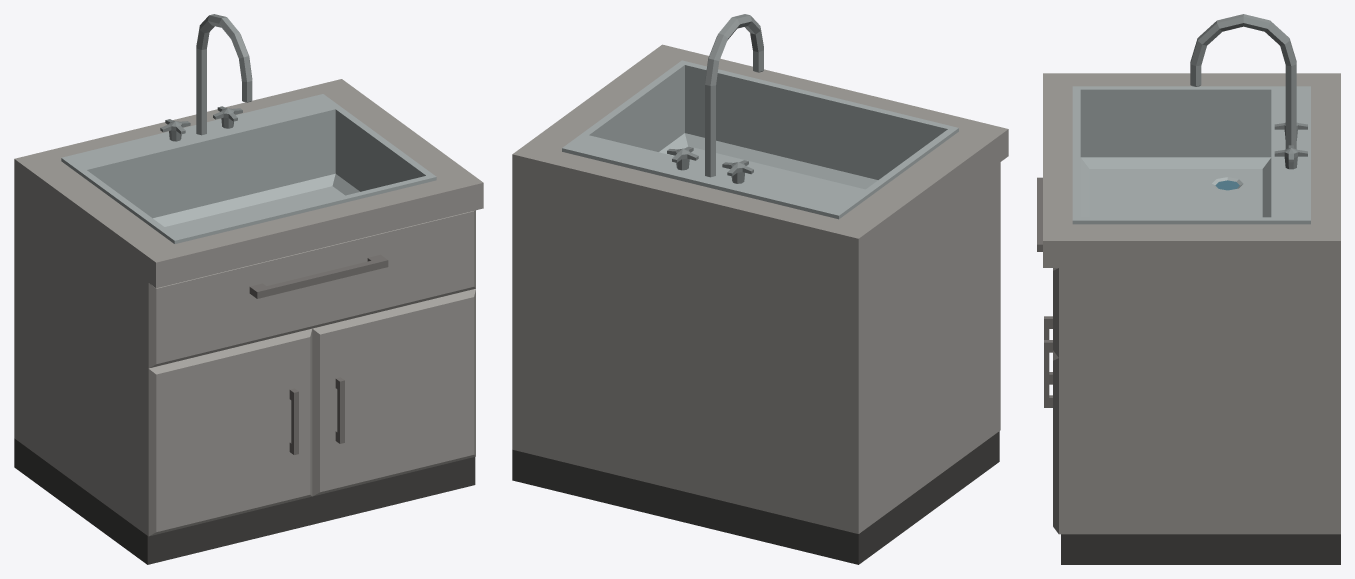
Rendered from SM_Props_Interior_House_Kitchen_Sink.fbx.
3 views of the same model, side by side, from view 1: azimuth 30°, elevation 25°; view 2: azimuth 150°, elevation 25°; view 3: azimuth 270°, elevation 25° (orthographic). The views are drawn at different scales.
Parts seen in each view (by area): view 1: SM_Props_Interior_House_Kitchen_Sink; view 2: SM_Props_Interior_House_Kitchen_Sink; view 3: SM_Props_Interior_House_Kitchen_Sink.
Boxes of the visible parts, left/top/right/bottom form: SM_Props_Interior_House_Kitchen_Sink: left=14, top=14, right=483, bottom=564; SM_Props_Interior_House_Kitchen_Sink: left=512, top=14, right=1008, bottom=564; SM_Props_Interior_House_Kitchen_Sink: left=1037, top=14, right=1340, bottom=564.
Bounding box in the file's own units: 100 × 129 × 76.5.
